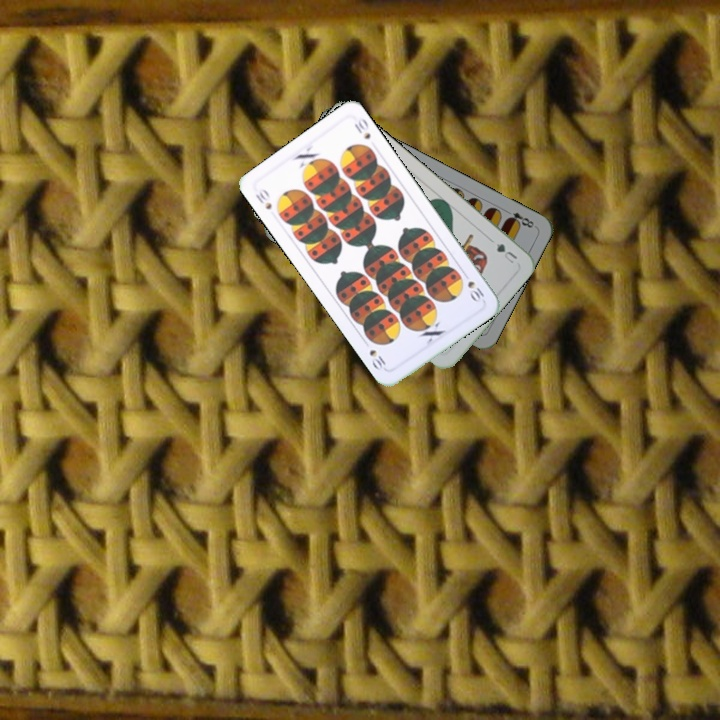E8: (501, 205, 537, 231)
GU: (492, 239, 520, 267)
S10: (463, 277, 487, 305), (251, 184, 274, 212)
